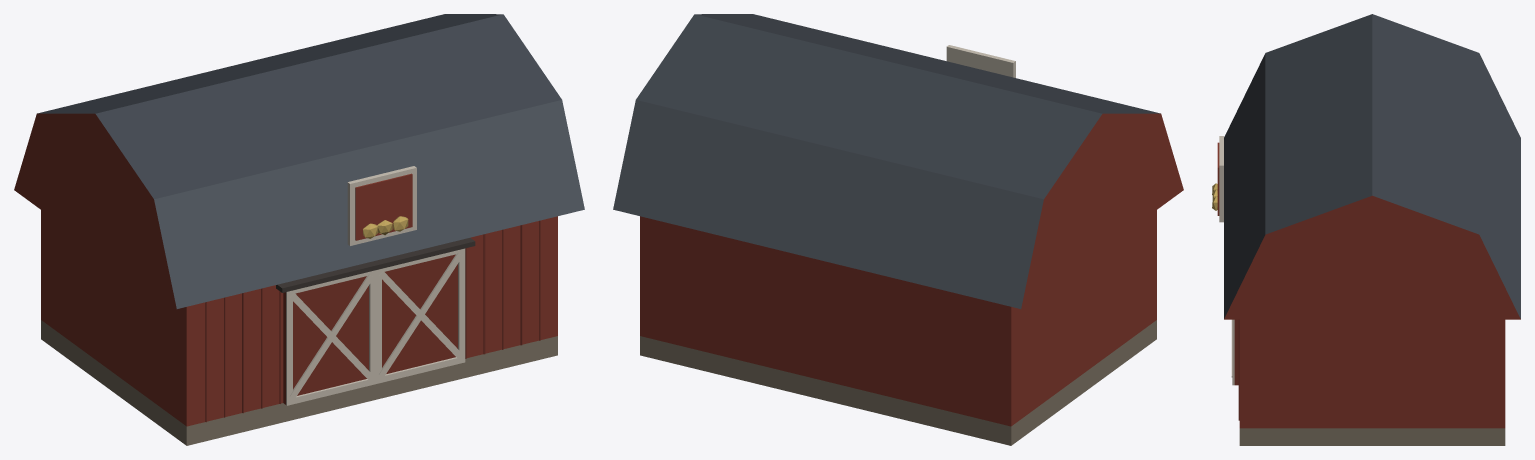
File: barn.glb
3 renders of one model, left to right at view 1: azimuth 30°, elevation 25°; view 2: azimuth 150°, elevation 25°; view 3: azimuth 270°, elevation 25°, orthographic. The views are drawn at different scales.
Parts seen in each view (by area): view 1: barn; view 2: barn; view 3: barn.
Part boxes in pixels (box(x1,y1,x2,y2)): barn: box(14, 14, 584, 445); barn: box(613, 14, 1183, 445); barn: box(1212, 14, 1520, 445).
Bounding box in the file's own units: 5.5 × 3.65 × 3.95.
